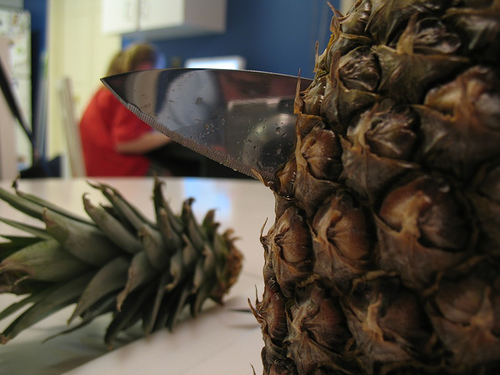pineapple: (247, 0, 499, 374)
